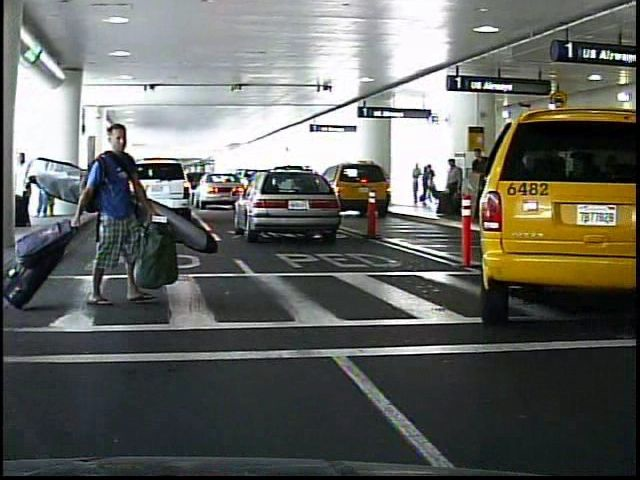person: (82, 115, 153, 325), (440, 159, 462, 219), (485, 145, 499, 215), (409, 163, 421, 208), (421, 165, 432, 210)
